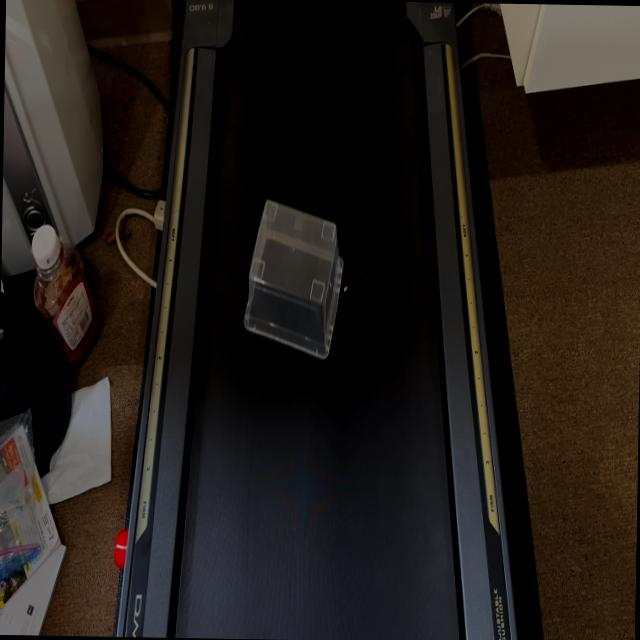Recycle: (242, 198, 345, 362)
